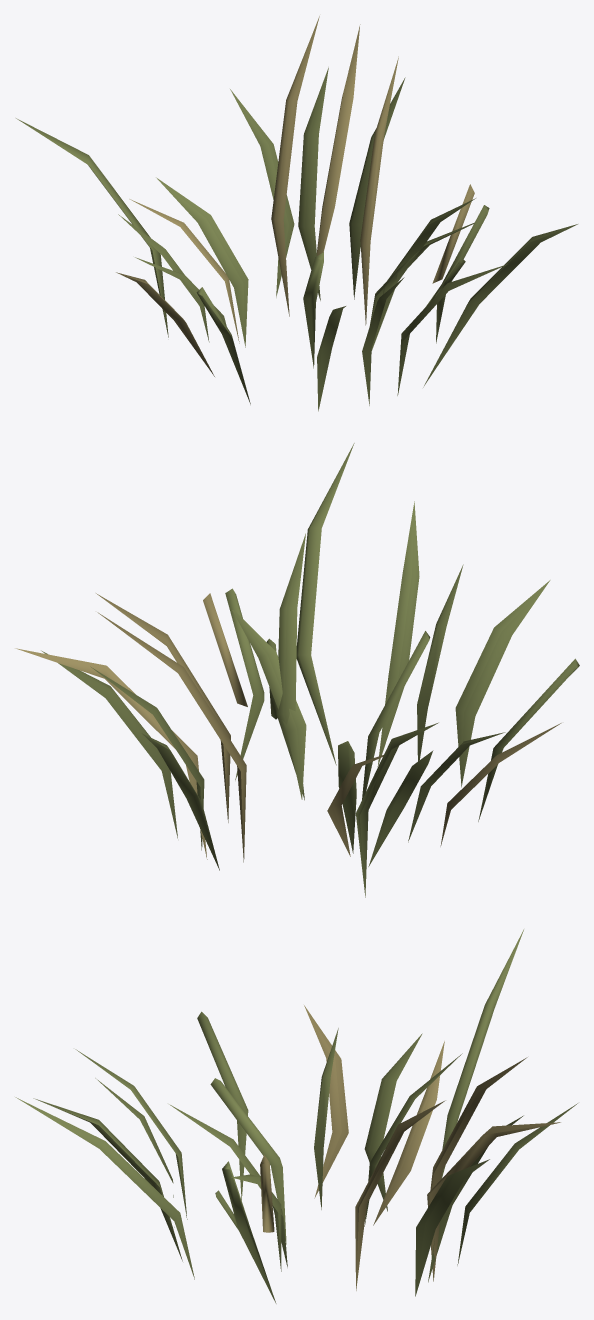
The model's file is Herbes_Jeune_LOD1.fbx.
3 renders of one model, top to bottom at view 1: azimuth 30°, elevation 25°; view 2: azimuth 150°, elevation 25°; view 3: azimuth 270°, elevation 25°, orthographic. The views are drawn at different scales.
Parts seen in each view (by area): view 1: Herbes_Jeune_LOD1; view 2: Herbes_Jeune_LOD1; view 3: Herbes_Jeune_LOD1.
Part boxes in pixels (x1=…): Herbes_Jeune_LOD1: x1=16, y1=16, x2=577, y2=411; Herbes_Jeune_LOD1: x1=15, y1=443, x2=579, y2=897; Herbes_Jeune_LOD1: x1=15, y1=929, x2=577, y2=1303.
Size of the model in its own units: 42.33 by 26.2 by 52.28.
